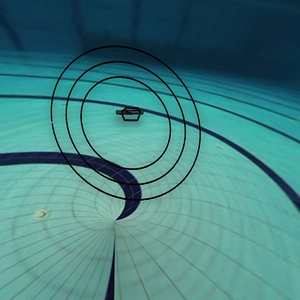circle: (49, 37, 203, 212)
submarine: (106, 101, 155, 134)
